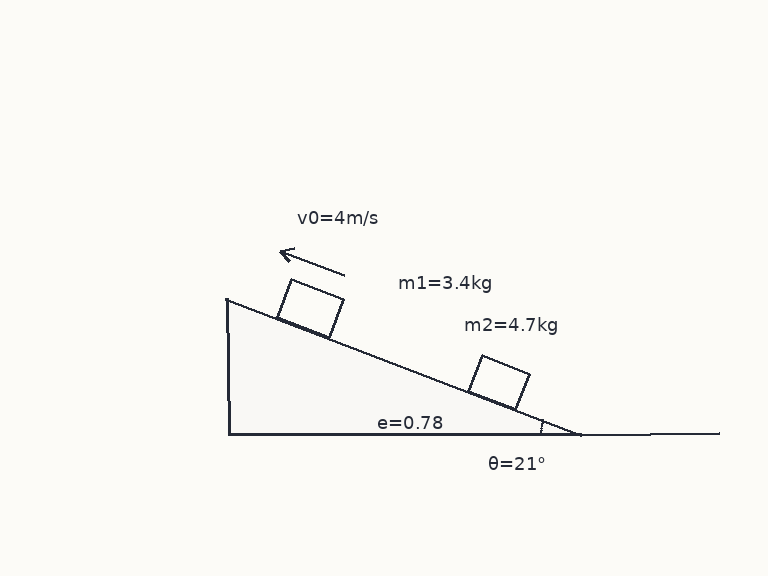block: (274, 277, 345, 339), (466, 354, 531, 411)
ramp: (225, 296, 583, 436)
